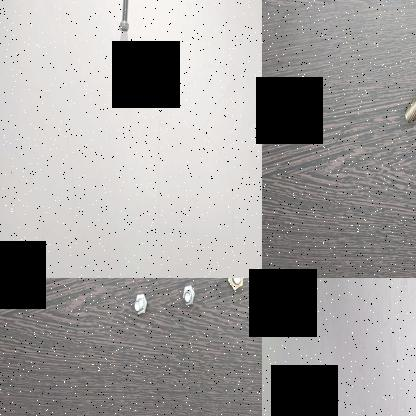Bolts: (399, 68, 416, 131), (115, 0, 134, 43), (131, 290, 148, 324), (179, 282, 199, 308), (223, 278, 249, 291)
